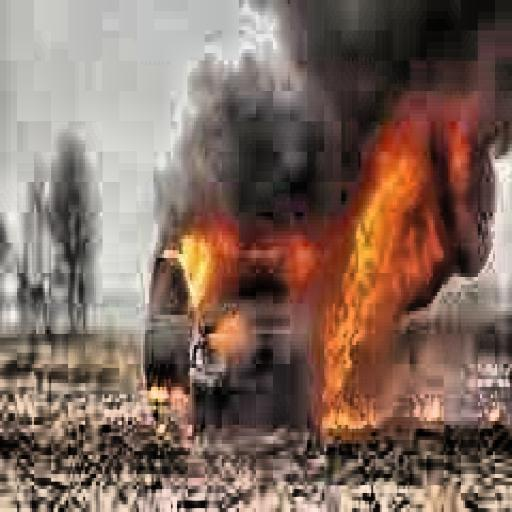fire: (296, 125, 493, 421), (162, 190, 254, 349)
